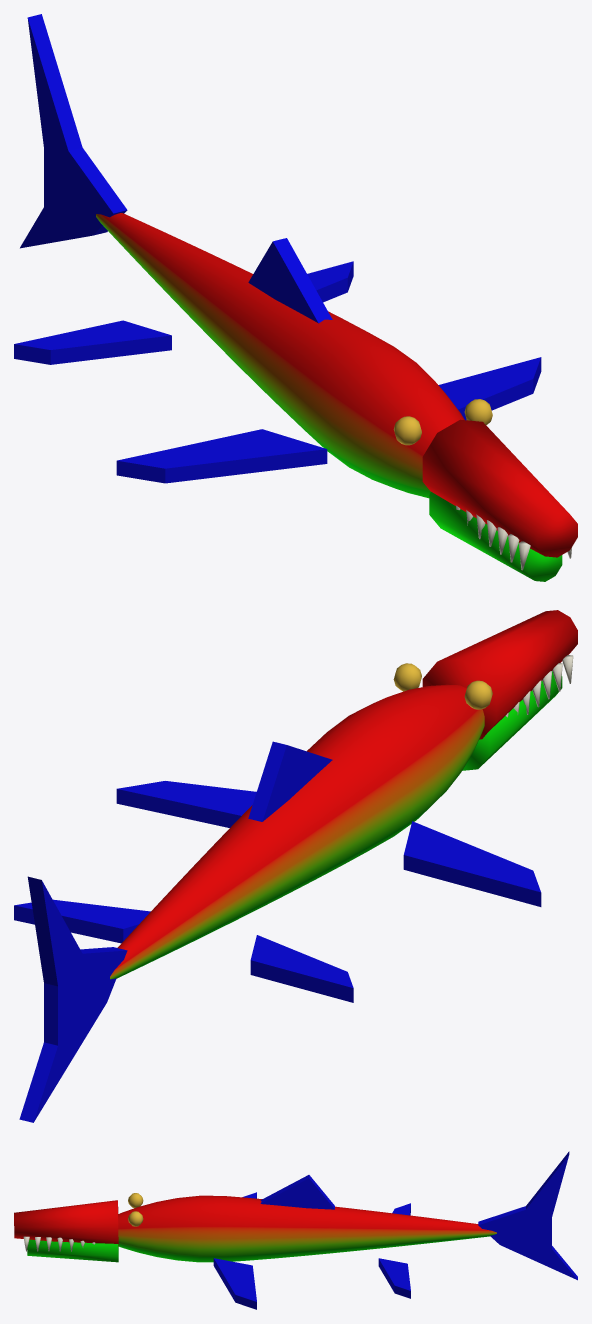
Rendered from fish_mosasaur.glb.
The picture shows the model from 3 angles, top to bottom: view 1: azimuth 30°, elevation 25°; view 2: azimuth 150°, elevation 25°; view 3: azimuth 270°, elevation 25°; orthographic projection. The views are drawn at different scales.
Visible parts, largest first — view 1: Body, Eye; view 2: Body, Eye; view 3: Body, Eye.
Boxes of the visible parts, <box> form: Body: <box>14,14,577,581</box>; Eye: <box>393,399,492,445</box>; Body: <box>14,610,577,1122</box>; Eye: <box>393,663,492,709</box>; Body: <box>14,1151,577,1309</box>; Eye: <box>128,1193,143,1226</box>.
Bounding box in the file's own units: 0.6 × 0.32 × 1.3.
